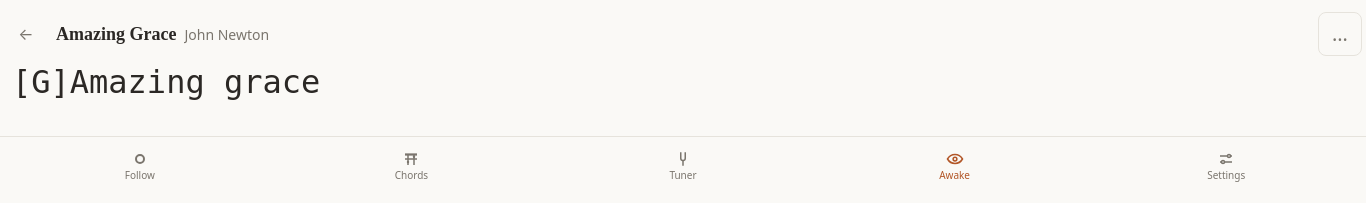
Test: PlayPage Follow debug switch › turns the panel on, and says so the next time the menu is opened
Click the button named "Chart actions" at {"x": 1340, "y": 34}, box [1318,12,1362,56]
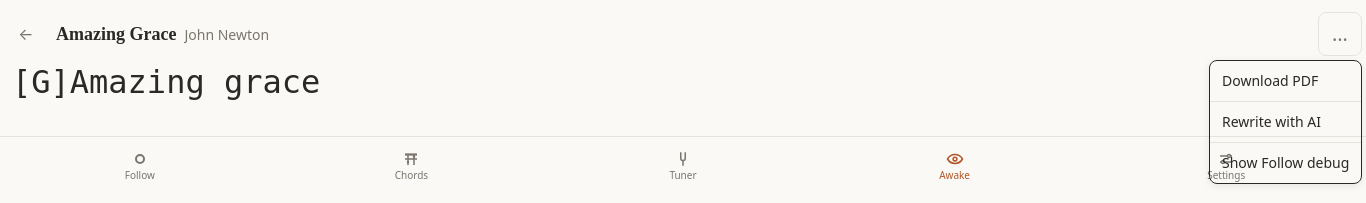
Expected: the menu is shown, [1209,60,1362,184]
Click the menu item "Show Follow debug" at {"x": 1286, "y": 162}, box [1222,153,1349,172]
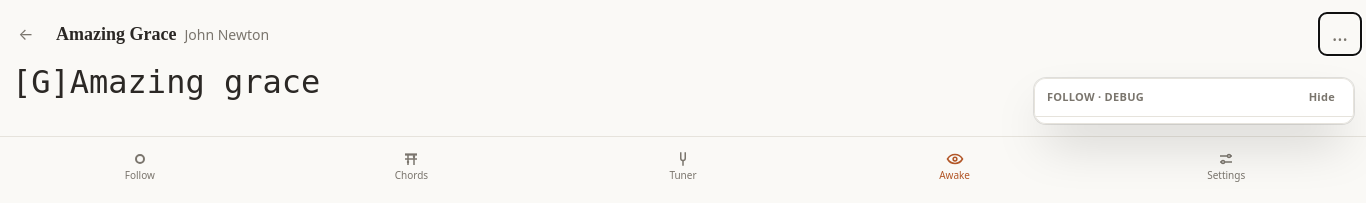
Click the button named "Chart actions" at {"x": 1340, "y": 34}, box [1318,12,1362,56]
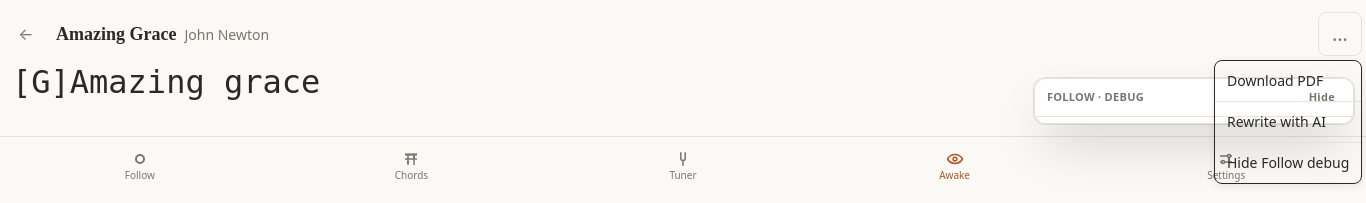
Expected: the menu is shown, [1214,60,1362,184]
Expected: the menu item "Hide Follow debug" is shown, [1227,153,1349,172]
